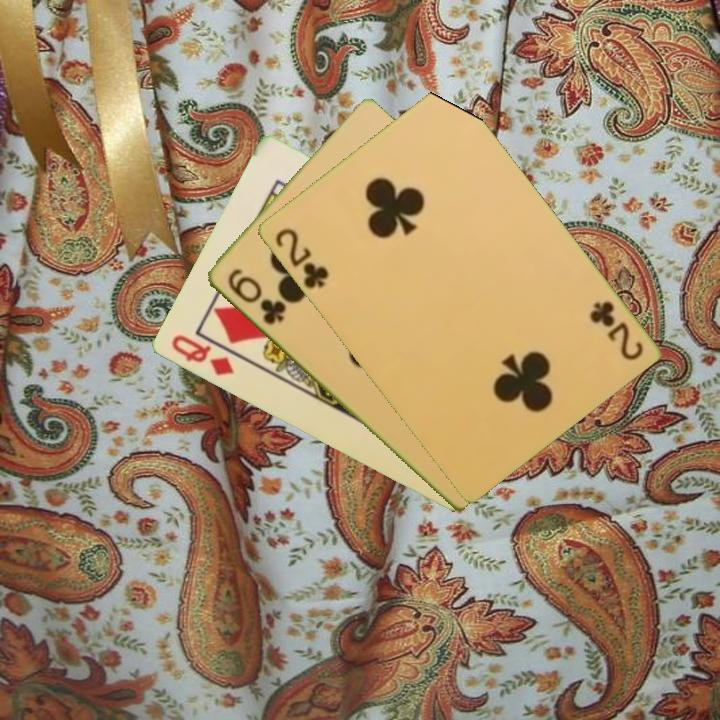2c: (271, 224, 332, 292), (585, 297, 646, 364)
6c: (223, 265, 288, 328)
Qd: (167, 331, 237, 379)
